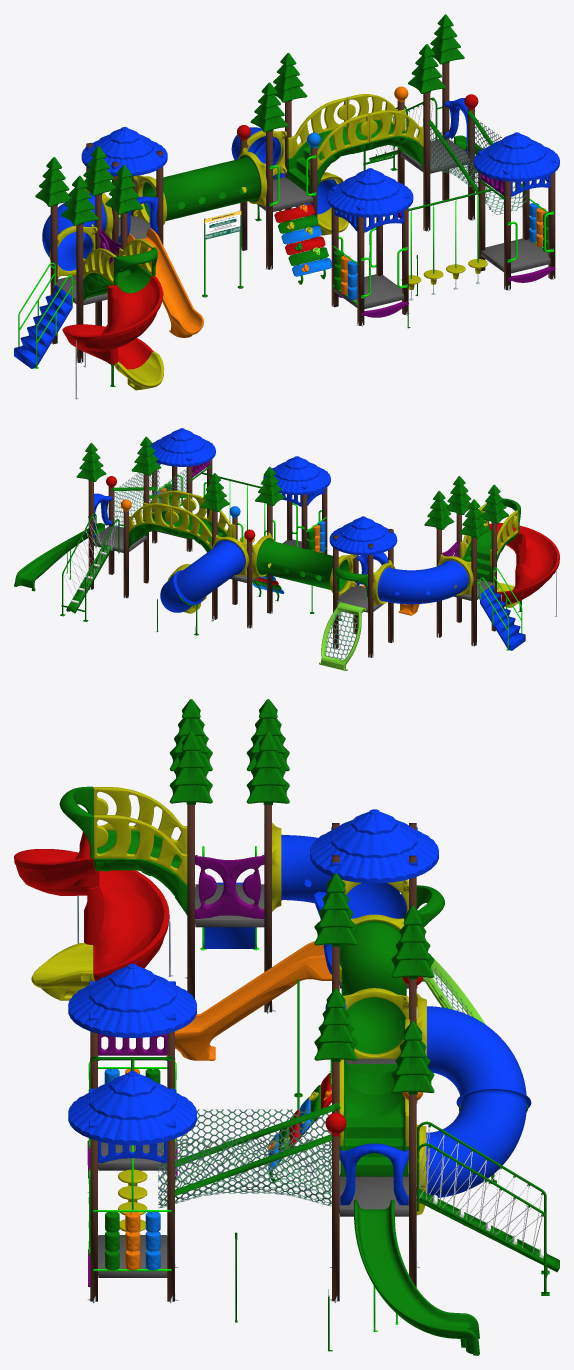
3 renders of one model, top to bottom at view 1: azimuth 30°, elevation 25°; view 2: azimuth 150°, elevation 25°; view 3: azimuth 270°, elevation 25°, orthographic. The views are drawn at different scales.
Parts seen in each view (by area): view 1: ACESSO M1; view 2: ACESSO M1; view 3: ACESSO M1.
Boxes of the visible parts, bbox=[...] form: ACESSO M1: bbox=[14, 14, 559, 399]; ACESSO M1: bbox=[14, 428, 559, 670]; ACESSO M1: bbox=[14, 699, 559, 1355].
Bounding box in the file's own units: 11.5 × 4.84 × 6.45.
Materials: 65 (3 with a texture image).
